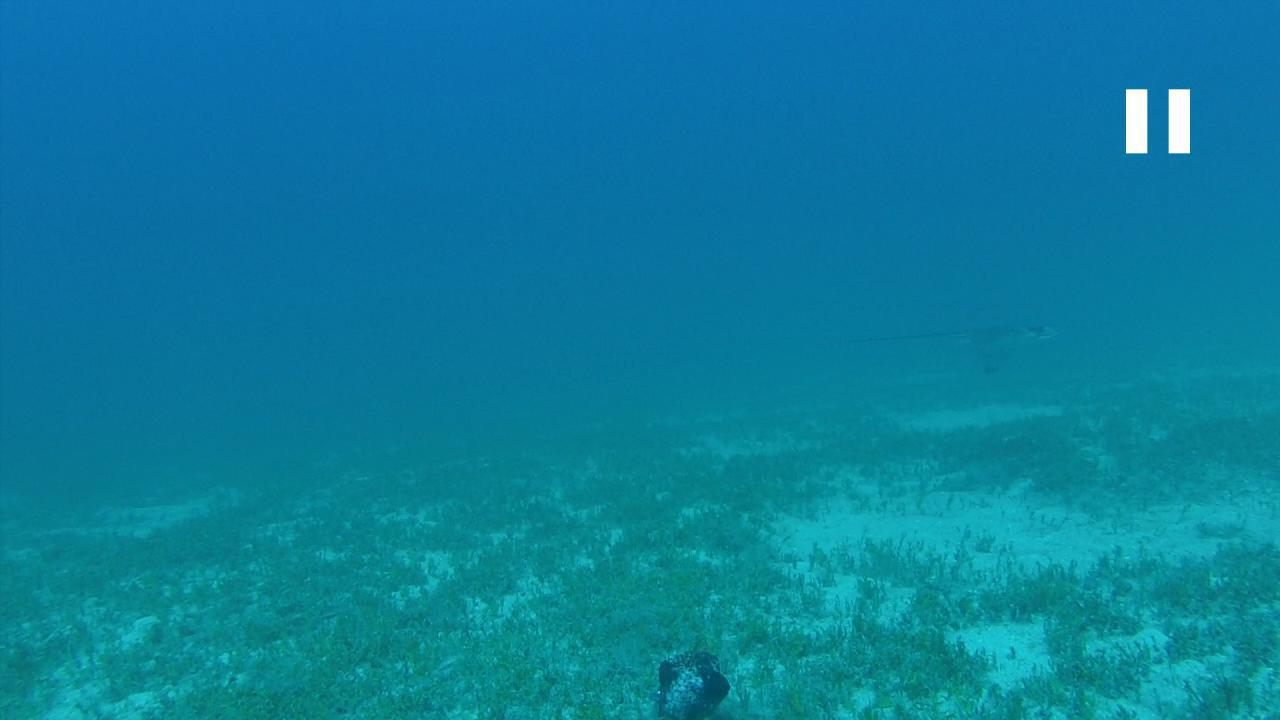dasyatis: (834, 322, 1056, 373)
